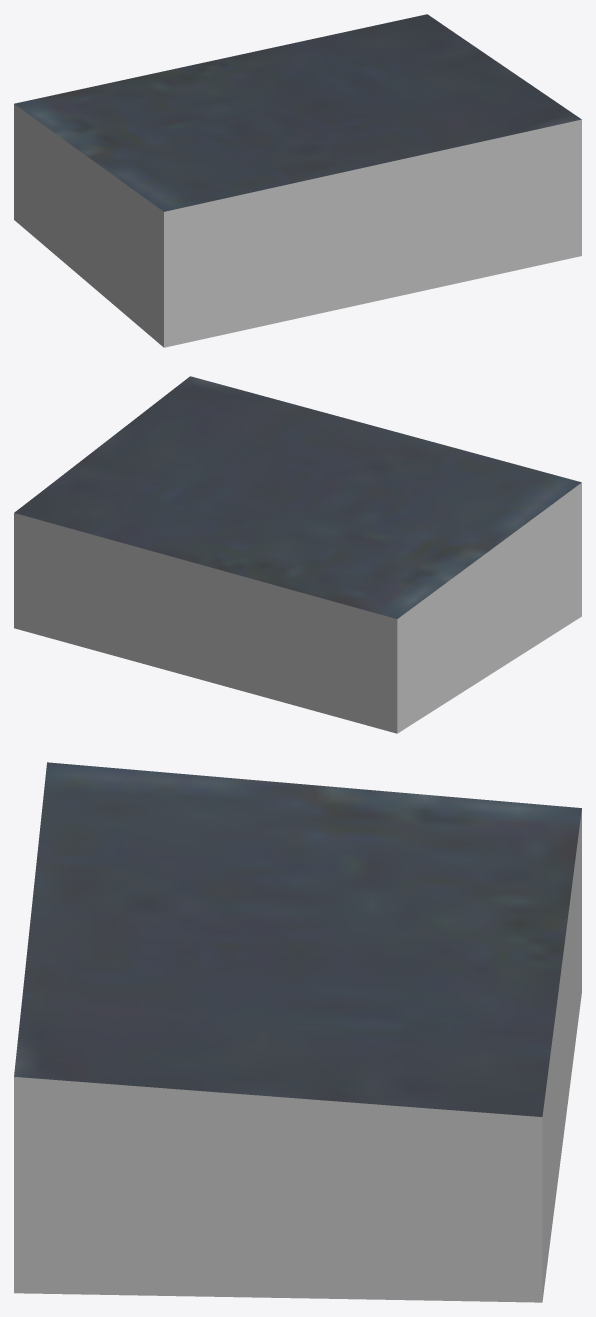
File: DEBW_0010007TvjF.gltf
3 views of the same model, one above another, from view 1: azimuth 30°, elevation 25°; view 2: azimuth 150°, elevation 25°; view 3: azimuth 270°, elevation 25° (orthographic). The views are drawn at different scales.
Visible parts, largest first — view 1: Z_UP; view 2: Z_UP; view 3: Z_UP.
Boxes of the visible parts, x1=… form: Z_UP: x1=14, y1=14, x2=581, y2=347; Z_UP: x1=14, y1=376, x2=581, y2=733; Z_UP: x1=14, y1=762, x2=581, y2=1302.
Size of the model in its own units: 8.36 by 2.6 by 6.18.
2 materials, 1 textured.
